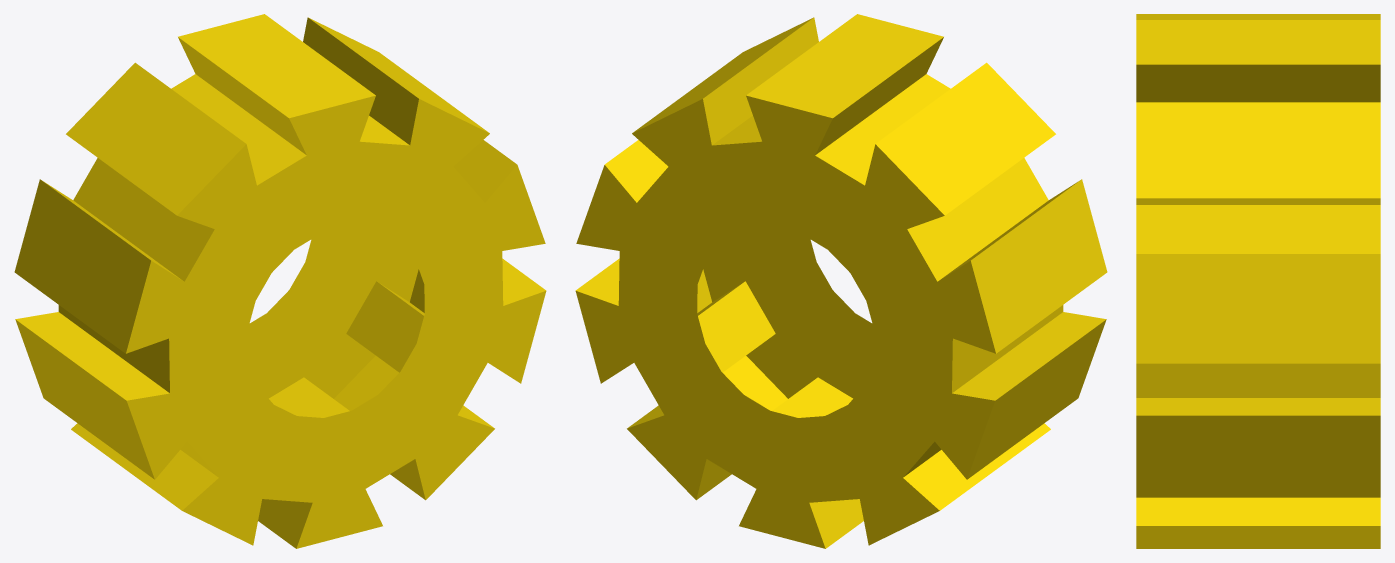
File: roue2.fbx
3 renders of one model, left to right at view 1: azimuth 30°, elevation 25°; view 2: azimuth 150°, elevation 25°; view 3: azimuth 270°, elevation 25°, orthographic. The views are drawn at different scales.
Visible parts, largest first — view 1: Object052; view 2: Object052; view 3: Object052.
Part boxes in pixels (bbox=[...]): Object052: bbox=[14, 14, 546, 548]; Object052: bbox=[575, 14, 1107, 548]; Object052: bbox=[1136, 14, 1380, 548].
Bounding box in the file's own units: 0.0898 × 0.0886 × 0.0412.
